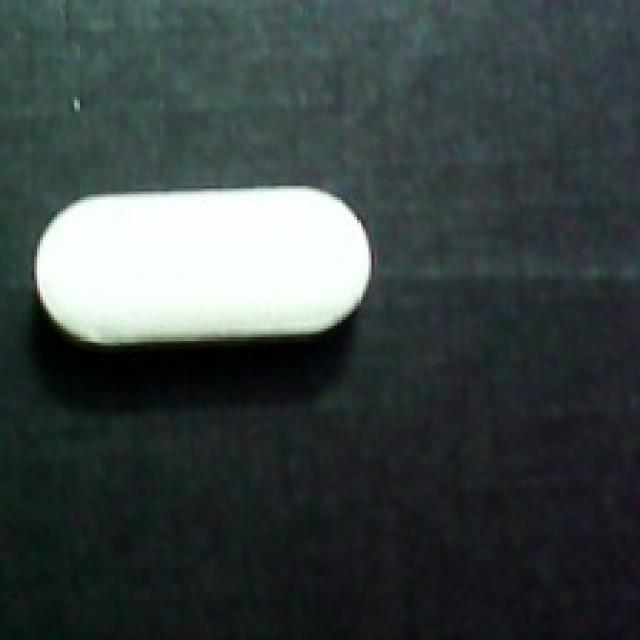no-defect: (29, 177, 377, 357)
